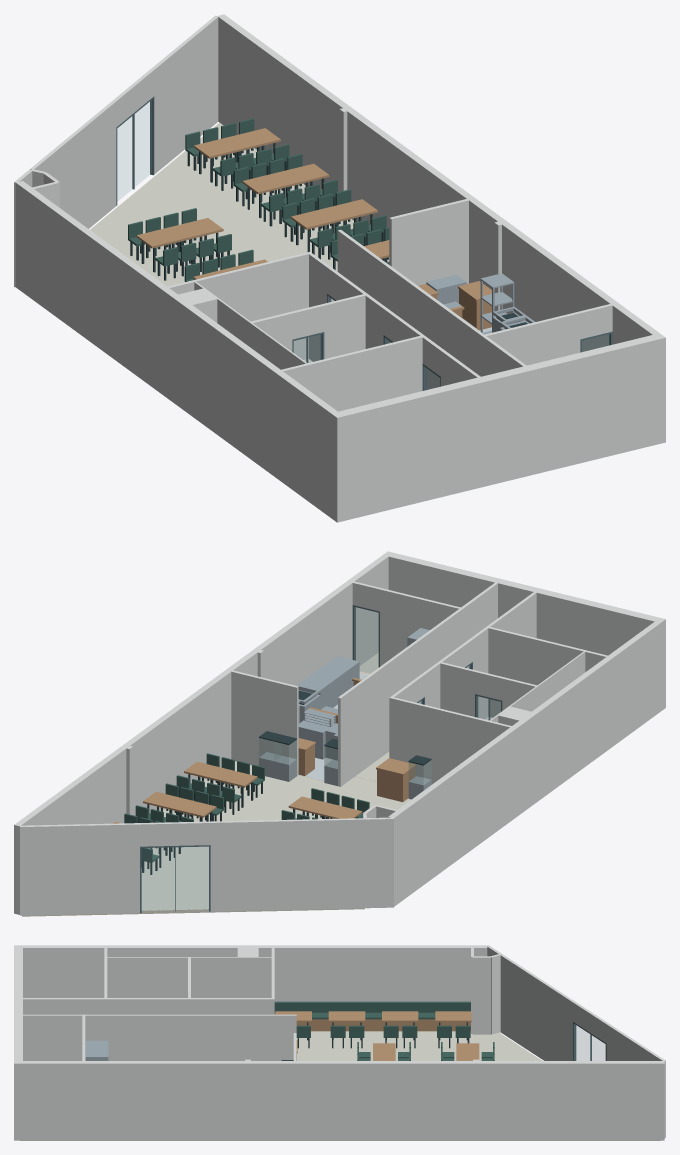
File: floorplan.glb
3 views of the same model, one above another, from view 1: azimuth 30°, elevation 25°; view 2: azimuth 150°, elevation 25°; view 3: azimuth 270°, elevation 25° (orthographic). The views are drawn at different scales.
Parts seen in each view (by area): view 1: wall solid (×22), zone-dining · 홀 · 오픈 다이닝, schematic transparent panel, dimensioned body, cabinet; view 2: wall solid (×23), zone-dining · 홀 · 오픈 다이닝, schematic transparent panel (×2), dimensioned body (×3), cabinet, Floor slab · schematic 100 mm; view 3: wall solid (×19), zone-dining · 홀 · 오픈 다이닝, bench back, table top (×4), bench base, schematic transparent panel, Floor slab · schematic 100 mm, dimensioned body, bench seat.
Part boxes in pixels (box(x1,y1,x2,y2)): wall solid (×22): box(15, 14, 665, 522); zone-dining · 홀 · 오픈 다이닝: box(90, 122, 389, 301); schematic transparent panel: box(118, 100, 151, 200); dimensioned body: box(339, 107, 349, 191); cabinet: box(459, 289, 491, 330); wall solid (×23): box(14, 551, 665, 915); zone-dining · 홀 · 오픈 다이닝: box(141, 761, 411, 910); schematic transparent panel (×2): box(142, 607, 377, 910); dimensioned body (×3): box(298, 656, 359, 759); cabinet: box(377, 768, 415, 802); Floor slab · schematic 100 mm: box(22, 671, 376, 916); wall solid (×19): box(14, 945, 665, 1140); zone-dining · 홀 · 오픈 다이닝: box(296, 1031, 542, 1060); bench back: box(274, 1001, 470, 1012); table top (×4): box(328, 1011, 479, 1055); bench base: box(296, 1019, 470, 1031); schematic transparent panel: box(575, 1025, 604, 1060); Floor slab · schematic 100 mm: box(20, 1140, 660, 1140); dimensioned body: box(85, 1040, 108, 1060); bench seat: box(274, 1012, 435, 1019).
Bounding box in the file's own units: 9.22 × 2.9 × 21.44.
